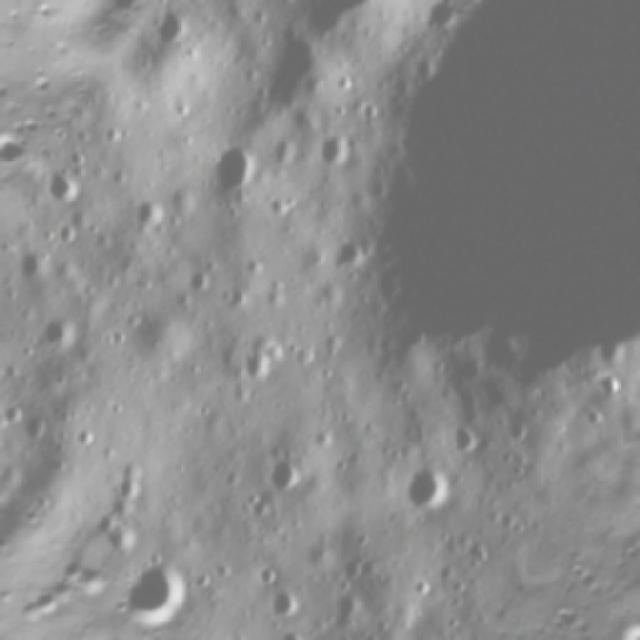crater: (274, 22, 640, 489), (112, 289, 208, 385), (280, 0, 411, 68), (192, 124, 279, 216), (384, 450, 467, 532), (126, 543, 206, 615), (1, 232, 72, 302), (223, 328, 292, 397), (250, 120, 315, 185), (251, 448, 315, 512), (313, 578, 378, 640), (306, 125, 366, 187), (27, 304, 87, 365), (156, 176, 213, 233), (140, 0, 197, 55), (322, 229, 376, 285), (36, 159, 90, 215), (231, 482, 284, 535), (584, 366, 634, 416), (264, 580, 313, 631), (124, 192, 173, 242), (438, 416, 487, 464), (249, 275, 297, 323), (11, 403, 58, 451), (211, 275, 258, 322), (174, 259, 221, 306), (100, 517, 146, 565), (258, 187, 304, 233), (109, 468, 154, 514), (588, 337, 634, 381), (300, 415, 345, 459), (351, 92, 394, 137), (0, 389, 35, 442), (248, 556, 290, 598), (347, 548, 387, 590), (65, 418, 104, 457), (322, 62, 360, 100), (166, 0, 231, 22), (400, 566, 438, 603), (573, 400, 607, 434), (52, 216, 86, 250), (267, 617, 316, 640), (503, 416, 535, 449), (444, 572, 474, 602), (263, 0, 310, 18), (314, 360, 340, 386)
